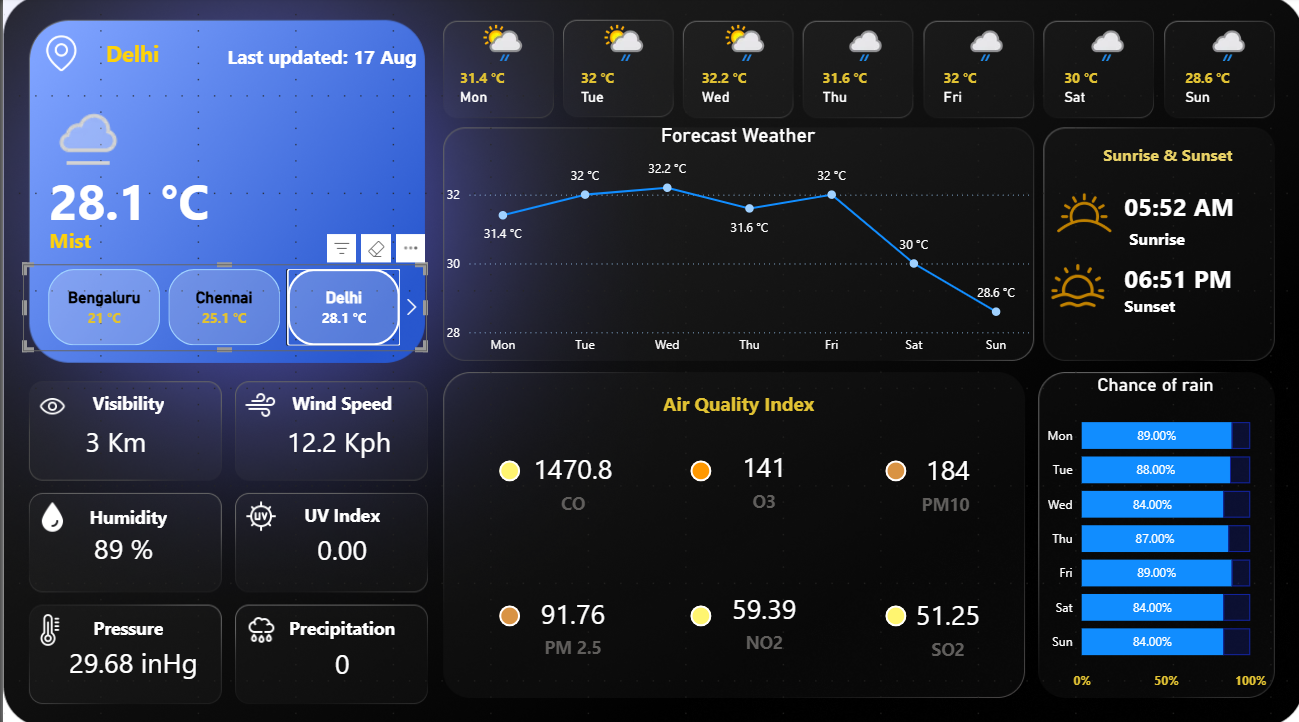

Layout of this report page (visuals, bound fields, positions):
{"tool":"powerbi","page":{"name":"Dashboard","canvas":[1280,720],"ordinal":0},"visuals":[{"type":"advancedSlicerVisual","fields":{"Values":["Locations.location.name"]},"box":[19.2,262.4,398.1,85.8],"z":0},{"type":"shape","box":[46.1,160,323.8,76.8],"z":1000},{"type":"shape","box":[46.1,212.5,285.4,49.9],"z":2000},{"type":"shape","box":[37.5,30,181.2,50],"z":3000},{"type":"shape","box":[165,32.5,242.5,50],"z":4000},{"type":"image","box":[27.5,32.5,60,45],"z":5000},{"type":"cardVisual","fields":{"Data":["Min(Current.current.condition.icon)"]},"box":[26.9,76.8,110.1,103.7],"z":6000},{"type":"image","box":[27.5,382.5,43.8,38.8],"z":7000},{"type":"image","box":[27.5,491.2,43.8,40],"z":8000},{"type":"image","box":[228.8,490,50,41.2],"z":9000},{"type":"image","box":[228.8,380,48.8,41.2],"z":10000},{"type":"image","box":[227.5,601.2,53.8,41.2],"z":11000},{"type":"image","box":[21.2,601.2,50,41.2],"z":12000},{"type":"shape","box":[66.2,380,113.8,37.5],"z":13000},{"type":"shape","box":[277.5,380,113.8,37.5],"z":14000},{"type":"shape","box":[66.2,492.5,113.8,37.5],"z":15000},{"type":"shape","box":[277.5,490,113.8,37.5],"z":16000},{"type":"shape","box":[277.5,601.2,113.8,37.5],"z":17000},{"type":"shape","box":[66.2,601.2,113.8,37.5],"z":18000},{"type":"card","fields":{"Values":["Measures_.Humidity_%"]},"box":[72.6,508.3,92.3,70.2],"z":19000},{"type":"card","fields":{"Values":["Measures_.Wind_speed_kph"]},"box":[272,402.5,118.2,70.2],"z":20000},{"type":"card","fields":{"Values":["Measures_.Pressure_inHg"]},"box":[57.8,620.3,141.5,70.2],"z":21000},{"type":"card","fields":{"Values":["Measures_.Visibility_km"]},"box":[72.6,402.5,77.5,70.2],"z":22000},{"type":"card","fields":{"Values":["Sum(Current.current.precip_in)"]},"box":[295.4,621.5,77.5,70.2],"z":23000},{"type":"card","fields":{"Values":["Sum(Current.current.uv)"]},"box":[295.4,509.5,77.5,70.2],"z":24000},{"type":"advancedSlicerVisual","fields":{"Values":["Forecast_Day.Day_name"]},"box":[432,13.5,836.9,110.8],"z":25000},{"type":"lineChart","title":"Forecast Weather","fields":{"Y":["Sum(Forecast_Day.forecast.forecastday.day.avgtemp_c)"],"Category":["Forecast_Day.Day_name"]},"box":[432,124.3,583.4,235.1],"z":26000},{"type":"shape","box":[1044.9,134.2,204.3,39.4],"z":27000},{"type":"shape","box":[1104,171.1,128,66.5],"z":28000},{"type":"shape","box":[1104,237.5,136.6,76.3],"z":29000},{"type":"shape","box":[1108.9,225.2,128,23.4],"z":30000},{"type":"shape","box":[1104,290.5,128,23.4],"z":31000},{"type":"image","box":[1020.3,171.1,88.6,81.2],"z":32000},{"type":"image","box":[1020.3,252.3,76.3,61.5],"z":33000},{"type":"hundredPercentStackedBarChart","title":"Chance of rain","fields":{"Category":["Forecast_Day.Day_name"],"Y":["Sum(Forecast_Day.forecast.forecastday.day.daily_chance_of_rain)","Measures_.Left_value_rain"]},"box":[1020.3,370.5,228.9,320],"z":34000},{"type":"shape","box":[632.6,380.3,183.4,36.9],"z":35000},{"type":"card","fields":{"Values":["Sum(Current.current.air_quality.pm10)"]},"box":[879.4,441.6,103.7,69.1],"z":36000},{"type":"card","fields":{"Values":["Sum(Current.current.air_quality.o3)"]},"box":[697.6,439,103.7,69.1],"z":37000},{"type":"card","fields":{"Values":["Sum(Current.current.air_quality.so2)"]},"box":[879.4,585,103.7,69.1],"z":38000},{"type":"card","fields":{"Values":["Sum(Current.current.air_quality.no2)"]},"box":[697.6,578.6,103.7,69.1],"z":39000},{"type":"card","fields":{"Values":["Sum(Current.current.air_quality.pm2_5)"]},"box":[510,583.9,103.7,69.1],"z":40000},{"type":"card","fields":{"Values":["Sum(Current.current.air_quality.co)"]},"box":[509.4,441.6,103.7,67.8],"z":41000},{"type":"shape","box":[869.1,455.7,20.5,20.5],"z":42000},{"type":"shape","box":[869.1,597.8,20.5,20.5],"z":43000},{"type":"shape","box":[677.1,455.7,20.5,20.5],"z":44000},{"type":"shape","box":[489,455.7,20.5,20.5],"z":44001},{"type":"shape","box":[677.1,597.8,20.5,20.5],"z":44002},{"type":"shape","box":[489,597.8,20.5,20.5],"z":44003}]}

Visuals, with their boxes in screenshot pixels (x1, y1, x2, y2), scaled from the page's 1280x720 canvas onto the 1299x722 screenshot:
advancedSlicerVisual - Locations.location.name: [x1=19, y1=263, x2=423, y2=349]
shape: [x1=47, y1=160, x2=375, y2=237]
shape: [x1=47, y1=213, x2=336, y2=263]
shape: [x1=38, y1=30, x2=222, y2=80]
shape: [x1=167, y1=33, x2=414, y2=83]
image: [x1=28, y1=33, x2=89, y2=78]
cardVisual - Min(Current.current.condition.icon): [x1=27, y1=77, x2=139, y2=181]
image: [x1=28, y1=384, x2=72, y2=422]
image: [x1=28, y1=493, x2=72, y2=533]
image: [x1=232, y1=491, x2=283, y2=533]
image: [x1=232, y1=381, x2=282, y2=422]
image: [x1=231, y1=603, x2=285, y2=644]
image: [x1=22, y1=603, x2=72, y2=644]
shape: [x1=67, y1=381, x2=183, y2=419]
shape: [x1=282, y1=381, x2=397, y2=419]
shape: [x1=67, y1=494, x2=183, y2=531]
shape: [x1=282, y1=491, x2=397, y2=529]
shape: [x1=282, y1=603, x2=397, y2=640]
shape: [x1=67, y1=603, x2=183, y2=640]
card - Measures_.Humidity_%: [x1=74, y1=510, x2=167, y2=580]
card - Measures_.Wind_speed_kph: [x1=276, y1=404, x2=396, y2=474]
card - Measures_.Pressure_inHg: [x1=59, y1=622, x2=202, y2=692]
card - Measures_.Visibility_km: [x1=74, y1=404, x2=152, y2=474]
card - Sum(Current.current.precip_in): [x1=300, y1=623, x2=378, y2=694]
card - Sum(Current.current.uv): [x1=300, y1=511, x2=378, y2=581]
advancedSlicerVisual - Forecast_Day.Day_name: [x1=438, y1=14, x2=1288, y2=125]
"Forecast Weather" lineChart: [x1=438, y1=125, x2=1030, y2=360]
shape: [x1=1060, y1=135, x2=1268, y2=174]
shape: [x1=1120, y1=172, x2=1250, y2=238]
shape: [x1=1120, y1=238, x2=1259, y2=315]
shape: [x1=1125, y1=226, x2=1255, y2=249]
shape: [x1=1120, y1=291, x2=1250, y2=315]
image: [x1=1035, y1=172, x2=1125, y2=253]
image: [x1=1035, y1=253, x2=1113, y2=315]
"Chance of rain" hundredPercentStackedBarChart: [x1=1035, y1=372, x2=1268, y2=692]
shape: [x1=642, y1=381, x2=828, y2=418]
card - Sum(Current.current.air_quality.pm10): [x1=892, y1=443, x2=998, y2=512]
card - Sum(Current.current.air_quality.o3): [x1=708, y1=440, x2=813, y2=510]
card - Sum(Current.current.air_quality.so2): [x1=892, y1=587, x2=998, y2=656]
card - Sum(Current.current.air_quality.no2): [x1=708, y1=580, x2=813, y2=649]
card - Sum(Current.current.air_quality.pm2_5): [x1=518, y1=586, x2=623, y2=655]
card - Sum(Current.current.air_quality.co): [x1=517, y1=443, x2=622, y2=511]
shape: [x1=882, y1=457, x2=903, y2=478]
shape: [x1=882, y1=599, x2=903, y2=620]
shape: [x1=687, y1=457, x2=708, y2=478]
shape: [x1=496, y1=457, x2=517, y2=478]
shape: [x1=687, y1=599, x2=708, y2=620]
shape: [x1=496, y1=599, x2=517, y2=620]
